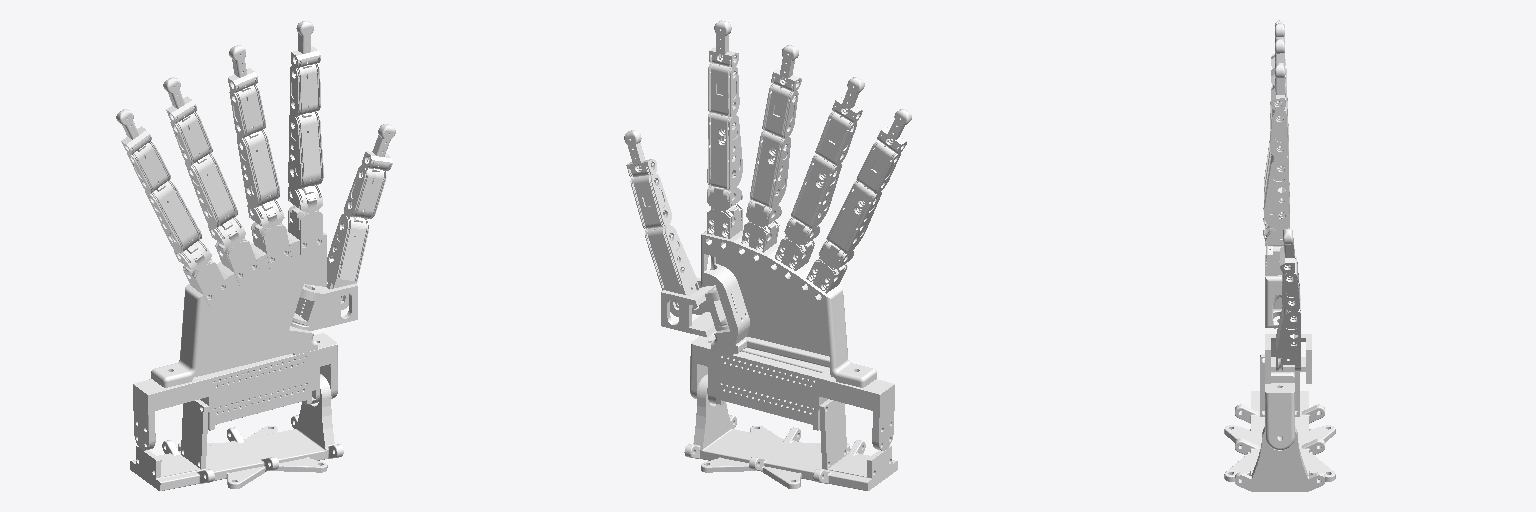
--- What the picture shows (computed from the rendered views, not written in the file) ---
Views: 3 orthographic renders of the robot side by side, from view 1: azimuth 30°, elevation 25°; view 2: azimuth 150°, elevation 25°; view 3: azimuth 270°, elevation 25°.
Robot: converted_robot — 109 links, 108 joints (39 revolute, 69 fixed); root link world; default pose: every joint at zero.
Links seen in each view (by area): view 1: palm, connector_base, wrist, index_pp, thumb_pp, middle_pp, thumb_base, ring_pp, pinky_pp, thumb_mp, index_mp, middle_mp (+15 smaller); view 2: palm, connector_base, wrist, thumb_pp, index_pp, thumb_base, middle_pp, ring_pp, pinky_pp, thumb_mp, index_mp, middle_mp (+15 smaller); view 3: connector_base, wrist, index_pp, thumb_pp, palm, thumb_base, index_mp, thumb_mp, index_dp, thumb_dp.
Link boxes in pixels (x1=…): palm: x1=151, y1=229, x2=326, y2=387; connector_base: x1=130, y1=374, x2=343, y2=490; wrist: x1=133, y1=333, x2=337, y2=450; index_pp: x1=288, y1=111, x2=323, y2=189; thumb_pp: x1=326, y1=214, x2=368, y2=309; middle_pp: x1=237, y1=129, x2=279, y2=207; thumb_base: x1=291, y1=283, x2=357, y2=330; ring_pp: x1=185, y1=153, x2=237, y2=228; pinky_pp: x1=145, y1=179, x2=201, y2=253; thumb_mp: x1=344, y1=165, x2=386, y2=218; index_mp: x1=290, y1=63, x2=320, y2=116; middle_mp: x1=229, y1=84, x2=265, y2=138; palm: x1=701, y1=230, x2=876, y2=387; connector_base: x1=684, y1=374, x2=897, y2=490; wrist: x1=690, y1=335, x2=894, y2=450; thumb_pp: x1=645, y1=225, x2=699, y2=316; index_pp: x1=707, y1=112, x2=742, y2=190; thumb_base: x1=661, y1=277, x2=728, y2=337; middle_pp: x1=750, y1=130, x2=790, y2=208; ring_pp: x1=791, y1=153, x2=841, y2=229; pinky_pp: x1=826, y1=180, x2=881, y2=253; thumb_mp: x1=630, y1=173, x2=671, y2=228; index_mp: x1=708, y1=63, x2=739, y2=117; middle_mp: x1=762, y1=83, x2=798, y2=138; connector_base: x1=1224, y1=354, x2=1335, y2=491; wrist: x1=1265, y1=383, x2=1294, y2=449; index_pp: x1=1264, y1=151, x2=1289, y2=229; thumb_pp: x1=1276, y1=295, x2=1300, y2=370; palm: x1=1265, y1=275, x2=1294, y2=382; thumb_base: x1=1265, y1=328, x2=1311, y2=383; index_mp: x1=1270, y1=103, x2=1287, y2=158; thumb_mp: x1=1282, y1=256, x2=1299, y2=310; index_dp: x1=1271, y1=63, x2=1285, y2=111; thumb_dp: x1=1280, y1=229, x2=1294, y2=273.
Size in the robot's own frame: 0.1614 by 0.0565 by 0.2362 metres.
Meshes: 27 distinct files referenced, 27 mesh visuals loaded (27 binary STL).

robot.urdf — converted_robot:
<?xml version="1.0" ?>
<robot name="converted_robot">
   <link name="world">
      <inertial>
         <origin xyz="0.0 0.0 0.0" rpy="0.0 0.0 0.0"/>
         <mass value="0.0"/>
         <inertia ixx="0.0" iyy="0.0" izz="0.0" ixy="0" ixz="0" iyz="0"/>
      </inertial>
   </link>
   <link name="wrist">
      <inertial>
         <origin xyz="0.006398304079219358 2.5601891628451577e-05 0.010751708112468374" rpy="1.5592440798138425 -0.004602196226064947 1.5700834195723419"/>
         <mass value="0.08354295839941446"/>
         <inertia ixx="8.100770050394494e-05" iyy="7.735567955308567e-05" izz="5.790938091619951e-06" ixy="0" ixz="0" iyz="0"/>
      </inertial>
      <visual name="wrist">
         <origin xyz="0.006398304079219358 2.5601891628451577e-05 0.010751708112468374" rpy="1.5592440798138423 -0.004602196226064947 1.570083419572342"/>
         <geometry>
            <mesh filename="package://viz/models/titans_hand/urdf/converted_mesh/converted_wrist.stl"/>
         </geometry>
         <material name="white"/>
      </visual>
   </link>
   <link name="world2wrist_fixed_jointbody">
      <inertial>
         <origin xyz="0.0 0.0 0.0" rpy="0.0 0.0 0.0"/>
         <mass value="0.001"/>
         <inertia ixx="1e-09" iyy="1e-09" izz="1e-09" ixy="0" ixz="0" iyz="0"/>
      </inertial>
   </link>
   <joint type="fixed" name="world2wrist_fixed">
      <parent link="world"/>
      <child link="world2wrist_fixed_jointbody"/>
      <origin xyz="0.0 0.0 0.03" rpy="0.0 0.0 0.0"/>
   </joint>
   <joint type="fixed" name="world2wrist_fixed_offset">
      <parent link="world2wrist_fixed_jointbody"/>
      <child link="wrist"/>
      <origin xyz="-0.0 -0.0 -0.0" rpy="0.0 0.0 0.0"/>
   </joint>
   <link name="connector_base">
      <inertial>
         <origin xyz="0.005853447472027522 8.875956500885724e-08 0.01065122051551691" rpy="3.141592653589793 -1.5467576642344818 0.0"/>
         <mass value="0.07977435345788764"/>
         <inertia ixx="7.21448104416082e-05" iyy="7.164411977791013e-05" izz="1.2264239349716238e-05" ixy="0" ixz="0" iyz="0"/>
      </inertial>
      <visual name="connector_base">
         <origin xyz="0.005853447472027522 8.875956500885724e-08 0.01065122051551691" rpy="3.141592653589793 -1.5467576642344818 0.0"/>
         <geometry>
            <mesh filename="package://viz/models/titans_hand/urdf/converted_mesh/converted_connector_base.stl"/>
         </geometry>
         <material name="white"/>
      </visual>
   </link>
   <link name="revolute_base_hand_jointbody">
      <inertial>
         <origin xyz="0.0 0.0 0.0" rpy="0.0 0.0 0.0"/>
         <mass value="0.001"/>
         <inertia ixx="1e-09" iyy="1e-09" izz="1e-09" ixy="0" ixz="0" iyz="0"/>
      </inertial>
   </link>
   <joint type="revolute" name="revolute_base_hand">
      <parent link="wrist"/>
      <child link="revolute_base_hand_jointbody"/>
      <origin xyz="0.0 0.0 0.0" rpy="0.0 0.0 0.0"/>
      <axis xyz="1.0 0.0 0.0"/>
      <limit lower="-1.5707" upper="1.5707" effort="100" velocity="100"/>
   </joint>
   <joint type="fixed" name="revolute_base_hand_offset">
      <parent link="revolute_base_hand_jointbody"/>
      <child link="connector_base"/>
      <origin xyz="-0.0 -0.0 -0.03" rpy="0.0 0.0 0.0"/>
   </joint>
   <link name="palm">
      <inertial>
         <origin xyz="0.010094656341180435 -0.000553803013384598 0.03105483028308372" rpy="1.1186074852383143 0.04430379895530989 1.5628041845350036"/>
         <mass value="0.0780873173122749"/>
         <inertia ixx="6.0901843645658024e-05" iyy="4.614673284183627e-05" izz="1.6826391963182344e-05" ixy="0" ixz="0" iyz="0"/>
      </inertial>
      <visual name="palm">
         <origin xyz="0.010094656341180435 -0.000553803013384598 0.03105483028308372" rpy="1.1186074852383143 0.04430379895530989 1.5628041845350036"/>
         <geometry>
            <mesh filename="package://viz/models/titans_hand/urdf/converted_mesh/converted_palm.stl"/>
         </geometry>
         <material name="white"/>
      </visual>
   </link>
   <link name="wrist2palm_fixed_jointbody">
      <inertial>
         <origin xyz="0.0 0.0 0.0" rpy="0.0 0.0 0.0"/>
         <mass value="0.001"/>
         <inertia ixx="1e-09" iyy="1e-09" izz="1e-09" ixy="0" ixz="0" iyz="0"/>
      </inertial>
   </link>
   <joint type="fixed" name="wrist2palm_fixed">
      <parent link="wrist"/>
      <child link="wrist2palm_fixed_jointbody"/>
      <origin xyz="0.0 0.0 0.025" rpy="0.0 0.0 0.0"/>
   </joint>
   <joint type="fixed" name="wrist2palm_fixed_offset">
      <parent link="wrist2palm_fixed_jointbody"/>
      <child link="palm"/>
      <origin xyz="-0.0 -0.0 -0.0" rpy="0.0 0.0 0.0"/>
   </joint>
   <link name="thumb_base">
      <inertial>
         <origin xyz="0.011215182830463539 0.0029841183673705515 0.0016463816005658494" rpy="0.7654982077617296 -1.0771840751614328 2.8158047209123054"/>
         <mass value="0.01192734960073518"/>
         <inertia ixx="1.331480796603526e-06" iyy="1.1873079694313647e-06" izz="8.100218433718486e-07" ixy="0" ixz="0" iyz="0"/>
      </inertial>
      <visual name="thumb_hinge">
         <origin xyz="0.011215182830463539 0.0029841183673705515 0.0016463816005658494" rpy="0.7654982077617296 -1.0771840751614326 2.8158047209123054"/>
         <geometry>
            <mesh filename="package://viz/models/titans_hand/urdf/converted_mesh/converted_thumb_hinge.stl"/>
         </geometry>
         <material name="white"/>
      </visual>
   </link>
   <link name="thumb_hinge_jointbody">
      <inertial>
         <origin xyz="0.0 0.0 0.0" rpy="0.0 0.0 0.0"/>
         <mass value="0.001"/>
         <inertia ixx="1e-09" iyy="1e-09" izz="1e-09" ixy="0" ixz="0" iyz="0"/>
      </inertial>
   </link>
   <joint type="revolute" name="thumb_hinge">
      <parent link="palm"/>
      <child link="thumb_hinge_jointbody"/>
      <origin xyz="0.0393 0.0 0.023115" rpy="0.0 0.3490658500000001 0.0"/>
      <axis xyz="0.0 0.0 1.0"/>
      <limit lower="-1.75" upper="0.1" effort="100" velocity="100"/>
   </joint>
   <joint type="fixed" name="thumb_hinge_offset">
      <parent link="thumb_hinge_jointbody"/>
      <child link="thumb_base"/>
      <origin xyz="-0.0 -0.0 -0.0" rpy="0.0 0.0 0.0"/>
   </joint>
   <link name="thumb_pp">
      <inertial>
         <origin xyz="6.2787683180604015e-06 0.005125346570550757 0.016264992915475812" rpy="-0.0010123569356892403 -0.07264449111880178 -1.5672469521816081"/>
         <mass value="0.008517951004271104"/>
         <inertia ixx="1.3072129655499252e-06" iyy="1.2915714498132682e-06" izz="1.9551824716339084e-07" ixy="0" ixz="0" iyz="0"/>
      </inertial>
      <visual name="thumb_pp">
         <origin xyz="6.2787683180604015e-06 0.005125346570550757 0.016264992915475812" rpy="-0.0010123569356892403 -0.07264449111880178 -1.5672469521816081"/>
         <geometry>
            <mesh filename="package://viz/models/titans_hand/urdf/converted_mesh/converted_thumb_pp.stl"/>
         </geometry>
         <material name="white"/>
      </visual>
   </link>
   <link name="thumb_base2pp_jointbody">
      <inertial>
         <origin xyz="0.0 0.0 0.0" rpy="0.0 0.0 0.0"/>
         <mass value="0.001"/>
         <inertia ixx="1e-09" iyy="1e-09" izz="1e-09" ixy="0" ixz="0" iyz="0"/>
      </inertial>
   </link>
   <joint type="revolute" name="thumb_base2pp">
      <parent link="thumb_base"/>
      <child link="thumb_base2pp_jointbody"/>
      <origin xyz="0.02053 0.0 0.007747733972" rpy="0.0 0.0 0.0"/>
      <axis xyz="0.0 1.0 0.0"/>
      <limit lower="-0.2" upper="1.35" effort="100" velocity="100"/>
   </joint>
   <joint type="fixed" name="thumb_base2pp_offset">
      <parent link="thumb_base2pp_jointbody"/>
      <child link="thumb_pp"/>
      <origin xyz="-0.0 -0.0 -0.0" rpy="0.0 0.0 0.0"/>
   </joint>
   <link name="thumb_mp_virt">
      <inertial>
         <origin xyz="0.0 0.0 0.0" rpy="0.0 0.0 0.0"/>
         <mass value="0.001"/>
         <inertia ixx="4e-10" iyy="4e-10" izz="3e-10" ixy="0" ixz="0" iyz="0"/>
      </inertial>
   </link>
   <link name="thumb_pp2mp_virt_jointbody">
      <inertial>
         <origin xyz="0.0 0.0 0.0" rpy="0.0 0.0 0.0"/>
         <mass value="0.001"/>
         <inertia ixx="1e-09" iyy="1e-09" izz="1e-09" ixy="0" ixz="0" iyz="0"/>
      </inertial>
   </link>
   <joint type="revolute" name="thumb_pp2mp_virt">
      <parent link="thumb_pp"/>
      <child link="thumb_pp2mp_virt_jointbody"/>
      <origin xyz="0.0 0.0079 0.03471" rpy="0.0 0.0 0.0"/>
      <axis xyz="1.0 0.0 0.0"/>
      <limit lower="-0.131" upper="0.96" effort="100" velocity="100"/>
   </joint>
   <joint type="fixed" name="thumb_pp2mp_virt_offset">
      <parent link="thumb_pp2mp_virt_jointbody"/>
      <child link="thumb_mp_virt"/>
      <origin xyz="-0.0 -0.0 -0.0" rpy="0.0 0.0 0.0"/>
   </joint>
   <link name="thumb_mp">
      <inertial>
         <origin xyz="-7.55086448478437e-07 -0.001512541664618965 0.007480601507547438" rpy="0.0034460599232096767 0.040554727472796204 -1.5647320172412593"/>
         <mass value="0.0036257578156079634"/>
         <inertia ixx="2.3818490558554055e-07" iyy="2.0716154410734043e-07" izz="6.832850890110207e-08" ixy="0" ixz="0" iyz="0"/>
      </inertial>
      <visual name="thumb_mp">
         <origin xyz="-7.55086448478437e-07 -0.001512541664618965 0.007480601507547438" rpy="0.0034460599232096767 0.040554727472796204 -1.5647320172412593"/>
         <geometry>
            <mesh filename="package://viz/models/titans_hand/urdf/converted_mesh/converted_thumb_mp.stl"/>
         </geometry>
         <material name="white"/>
      </visual>
   </link>
   <link name="thumb_pp2mp_jointbody">
      <inertial>
         <origin xyz="0.0 0.0 0.0" rpy="0.0 0.0 0.0"/>
         <mass value="0.001"/>
         <inertia ixx="1e-09" iyy="1e-09" izz="1e-09" ixy="0" ixz="0" iyz="0"/>
      </inertial>
   </link>
   <joint type="revolute" name="thumb_pp2mp">
      <parent link="thumb_mp_virt"/>
      <child link="thumb_pp2mp_jointbody"/>
      <origin xyz="0.0 -0.00094 0.01115" rpy="0.0 0.0 0.0"/>
      <axis xyz="1.0 0.0 0.0"/>
      <limit lower="-0.131" upper="0.96" effort="100" velocity="100"/>
   </joint>
   <joint type="fixed" name="thumb_pp2mp_offset">
      <parent link="thumb_pp2mp_jointbody"/>
      <child link="thumb_mp"/>
      <origin xyz="-0.0 -0.0 -0.0" rpy="0.0 0.0 0.0"/>
   </joint>
   <link name="thumb_dp_virt">
      <inertial>
         <origin xyz="0.0 0.0 -0.1" rpy="0.0 0.0 0.0"/>
         <mass value="0.001"/>
         <inertia ixx="4e-10" iyy="4e-10" izz="3e-10" ixy="0" ixz="0" iyz="0"/>
      </inertial>
   </link>
   <link name="thumb_mp2dp_virt_jointbody">
      <inertial>
         <origin xyz="0.0 0.0 0.0" rpy="0.0 0.0 0.0"/>
         <mass value="0.001"/>
         <inertia ixx="1e-09" iyy="1e-09" izz="1e-09" ixy="0" ixz="0" iyz="0"/>
      </inertial>
   </link>
   <joint type="revolute" name="thumb_mp2dp_virt">
      <parent link="thumb_mp"/>
      <child link="thumb_mp2dp_virt_jointbody"/>
      <origin xyz="0.0 -0.0011 0.01693" rpy="0.0 0.0 0.0"/>
      <axis xyz="1.0 0.0 0.0"/>
      <limit lower="-0.093" upper="0.682" effort="100" velocity="100"/>
   </joint>
   <joint type="fixed" name="thumb_mp2dp_virt_offset">
      <parent link="thumb_mp2dp_virt_jointbody"/>
      <child link="thumb_dp_virt"/>
      <origin xyz="-0.0 -0.0 -0.0" rpy="0.0 0.0 0.0"/>
   </joint>
   <link name="thumb_dp">
      <inertial>
         <origin xyz="3.630100010740267e-06 -0.0003437698391527567 0.00437159682784985" rpy="-0.0005379593086076717 -0.00143310992923662 -1.5708182980816119"/>
         <mass value="0.0014065189510415494"/>
         <inertia ixx="7.157650835027881e-08" iyy="6.265685831321033e-08" izz="1.6891661726787585e-08" ixy="0" ixz="0" iyz="0"/>
      </inertial>
      <visual name="thumb_dp">
         <origin xyz="3.630100010740267e-06 -0.0003437698391527567 0.00437159682784985" rpy="-0.0005379593086080048 -0.00143310992923662 -1.5708182980816119"/>
         <geometry>
            <mesh filename="package://viz/models/titans_hand/urdf/converted_mesh/converted_thumb_dp.stl"/>
         </geometry>
         <material name="white"/>
      </visual>
   </link>
   <link name="thumb_mp2dp_jointbody">
      <inertial>
         <origin xyz="0.0 0.0 0.0" rpy="0.0 0.0 0.0"/>
         <mass value="0.001"/>
         <inertia ixx="1e-09" iyy="1e-09" izz="1e-09" ixy="0" ixz="0" iyz="0"/>
      </inertial>
   </link>
   <joint type="revolute" name="thumb_mp2dp">
      <parent link="thumb_dp_virt"/>
      <child link="thumb_mp2dp_jointbody"/>
      <origin xyz="0.0 -0.00121 0.00845" rpy="0.0 0.0 0.0"/>
      <axis xyz="1.0 0.0 0.0"/>
      <limit lower="-0.093" upper="0.682" effort="100" velocity="100"/>
   </joint>
   <joint type="fixed" name="thumb_mp2dp_offset">
      <parent link="thumb_mp2dp_jointbody"/>
      <child link="thumb_dp"/>
      <origin xyz="-0.0 -0.0 -0.0" rpy="0.0 0.0 0.0"/>
   </joint>
   <link name="thumb_fingertip">
      <inertial>
         <origin xyz="0.0 0.0 0.01465" rpy="0.0 0.0 0.0"/>
         <mass value="0.0"/>
         <inertia ixx="0.0" iyy="0.0" izz="0.0" ixy="0" ixz="0" iyz="0"/>
      </inertial>
   </link>
   <link name="thumb_dp2thumb_fingertip_fixed_jointbody">
      <inertial>
         <origin xyz="0.0 0.0 0.0" rpy="0.0 0.0 0.0"/>
         <mass value="0.001"/>
         <inertia ixx="1e-09" iyy="1e-09" izz="1e-09" ixy="0" ixz="0" iyz="0"/>
      </inertial>
   </link>
   <joint type="fixed" name="thumb_dp2thumb_fingertip_fixed">
      <parent link="thumb_dp"/>
      <child link="thumb_dp2thumb_fingertip_fixed_jointbody"/>
      <origin xyz="0.0 0.0 0.01465" rpy="0.0 0.0 0.0"/>
   </joint>
   <joint type="fixed" name="thumb_dp2thumb_fingertip_fixed_offset">
      <parent link="thumb_dp2thumb_fingertip_fixed_jointbody"/>
      <child link="thumb_fingertip"/>
      <origin xyz="-0.0 -0.0 -0.0" rpy="0.0 0.0 0.0"/>
   </joint>
   <link name="index_base">
      <inertial>
         <origin xyz="-1.3760015381432599e-06 0.0001725668069039066 0.004475784071478828" rpy="-0.001820563394911212 0.2840263082023218 1.5629472627759466"/>
         <mass value="0.00362069274308756"/>
         <inertia ixx="1.660759019712417e-07" iyy="1.58396401779484e-07" izz="8.57537012752121e-08" ixy="0" ixz="0" iyz="0"/>
      </inertial>
      <visual name="index_base">
         <origin xyz="-1.3760015381432599e-06 0.0001725668069039066 0.004475784071478828" rpy="-0.001820563394911212 0.2840263082023218 1.5629472627759466"/>
         <geometry>
            <mesh filename="package://viz/models/titans_hand/urdf/converted_mesh/converted_index_base.stl"/>
         </geometry>
         <material name="white"/>
      </visual>
   </link>
   <link name="palm2index_base_fixed_jointbody">
      <inertial>
         <origin xyz="0.0 0.0 0.0" rpy="0.0 0.0 0.0"/>
         <mass value="0.001"/>
         <inertia ixx="1e-09" iyy="1e-09" izz="1e-09" ixy="0" ixz="0" iyz="0"/>
      </inertial>
   </link>
   <joint type="fixed" name="palm2index_base_fixed">
      <parent link="palm"/>
      <child link="palm2index_base_fixed_jointbody"/>
      <origin xyz="0.04096 -0.002 0.063" rpy="0.0 0.0 0.0"/>
   </joint>
   <joint type="fixed" name="palm2index_base_fixed_offset">
      <parent link="palm2index_base_fixed_jointbody"/>
      <child link="index_base"/>
      <origin xyz="-0.0 -0.0 -0.0" rpy="0.0 0.0 0.0"/>
   </joint>
   <link name="index_um_virt">
      <inertial>
         <origin xyz="0.0 0.0 0.0" rpy="0.0 0.0 0.0"/>
         <mass value="0.001"/>
         <inertia ixx="4e-10" iyy="4e-10" izz="3e-10" ixy="0" ixz="0" iyz="0"/>
      </inertial>
   </link>
   <link name="index_abd_virt_jointbody">
      <inertial>
         <origin xyz="0.0 0.0 0.0" rpy="0.0 0.0 0.0"/>
         <mass value="0.001"/>
         <inertia ixx="1e-09" iyy="1e-09" izz="1e-09" ixy="0" ixz="0" iyz="0"/>
      </inertial>
   </link>
   <joint type="revolute" name="index_abd_virt">
      <parent link="index_base"/>
      <child link="index_abd_virt_jointbody"/>
      <origin xyz="0.0 0.0 0.00527505" rpy="0.0 0.0 0.0"/>
      <axis xyz="0.0 1.0 0.0"/>
      <limit lower="-0.264" upper="0.264" effort="100" velocity="100"/>
   </joint>
   <joint type="fixed" name="index_abd_virt_offset">
      <parent link="index_abd_virt_jointbody"/>
      <child link="index_um_virt"/>
      <origin xyz="-0.0 -0.0 -0.0" rpy="0.0 0.0 0.0"/>
   </joint>
   <link name="index_um">
      <inertial>
         <origin xyz="1.7370519164770844e-05 0.0012715146657108968 -0.0031260415189963524" rpy="3.120877986607322 -1.1804296781579997 -1.5514785003273175"/>
         <mass value="0.0020507778801623494"/>
         <inertia ixx="5.3021061398745245e-08" iyy="4.456771195857276e-08" izz="4.1862251466191607e-08" ixy="0" ixz="0" iyz="0"/>
      </inertial>
      <visual name="index_um">
         <origin xyz="1.7370519164770844e-05 0.0012715146657108968 -0.0031260415189963524" rpy="3.120877986607322 -1.1804296781579997 -1.5514785003273168"/>
         <geometry>
            <mesh filename="package://viz/models/titans_hand/urdf/converted_mesh/converted_index_um.stl"/>
         </geometry>
         <material name="white"/>
      </visual>
   </link>
   <link name="index_abd_jointbody">
      <inertial>
         <origin xyz="0.0 0.0 0.0" rpy="0.0 0.0 0.0"/>
         <mass value="0.001"/>
         <inertia ixx="1e-09" iyy="1e-09" izz="1e-09" ixy="0" ixz="0" iyz="0"/>
      </inertial>
   </link>
   <joint type="revolute" name="index_abd">
      <parent link="index_um_virt"/>
      <child link="index_abd_jointbody"/>
      <origin xyz="0.0 0.0 0.01789991" rpy="0.0 0.0 0.0"/>
      <axis xyz="0.0 1.0 0.0"/>
      <limit lower="-0.264" upper="0.264" effort="100" velocity="100"/>
   </joint>
   <joint type="fixed" name="index_abd_offset">
      <parent link="index_abd_jointbody"/>
      <child link="index_um"/>
      <origin xyz="-0.0 -0.0 -0.0" rpy="0.0 0.0 0.0"/>
   </joint>
   <link name="index_pp_virt">
      <inertial>
         <origin xyz="0.0 0.0 0.0" rpy="0.0 0.0 0.0"/>
         <mass value="0.001"/>
         <inertia ixx="4e-10" iyy="4e-10" izz="3e-10" ixy="0" ixz="0" iyz="0"/>
      </inertial>
   </link>
   <link name="root2index_pp_virt_jointbody">
      <inertial>
         <origin xyz="0.0 0.0 0.0" rpy="0.0 0.0 0.0"/>
         <mass value="0.001"/>
         <inertia ixx="1e-09" iyy="1e-09" izz="1e-09" ixy="0" ixz="0" iyz="0"/>
      </inertial>
   </link>
   <joint type="revolute" name="root2index_pp_virt">
      <parent link="index_um"/>
      <child link="root2index_pp_virt_jointbody"/>
      <origin xyz="0.0 0.0033 -0.00625608" rpy="0.0 0.0 0.0"/>
      <axis xyz="1.0 0.0 0.0"/>
      <limit lower="-0.157" upper="0.829" effort="100" velocity="100"/>
   </joint>
   <joint type="fixed" name="root2index_pp_virt_offset">
      <parent link="root2index_pp_virt_jointbody"/>
      <child link="index_pp_virt"/>
      <origin xyz="-0.0 -0.0 -0.0" rpy="0.0 0.0 0.0"/>
   </joint>
   <link name="index_pp">
      <inertial>
         <origin xyz="0.00011637335936397564 -0.001818208065259735 0.010822209549121282" rpy="0.0018869935921097536 0.038976549934939486 1.5584299043450622"/>
         <mass value="0.007546046440107924"/>
         <inertia ixx="9.56353434554292e-07" iyy="9.274116917842254e-07" izz="1.7176054342320975e-07" ixy="0" ixz="0" iyz="0"/>
      </inertial>
      <visual name="index_pp">
         <origin xyz="0.00011637335936397564 -0.001818208065259735 0.010822209549121282" rpy="0.0018869935921097536 0.038976549934939486 1.5584299043450622"/>
         <geometry>
            <mesh filename="package://viz/models/titans_hand/urdf/converted_mesh/converted_index_pp.stl"/>
         </geometry>
         <material name="white"/>
      </visual>
   </link>
   <link name="root2index_pp_jointbody">
      <inertial>
         <origin xyz="0.0 0.0 0.0" rpy="0.0 0.0 0.0"/>
         <mass value="0.001"/>
         <inertia ixx="1e-09" iyy="1e-09" izz="1e-09" ixy="0" ixz="0" iyz="0"/>
      </inertial>
   </link>
   <joint type="revolute" name="root2index_pp">
      <parent link="index_pp_virt"/>
      <child link="root2index_pp_jointbody"/>
      <origin xyz="0.0 -0.00015683 0.01722519" rpy="0.0 0.0 0.0"/>
      <axis xyz="1.0 0.0 0.0"/>
      <limit lower="-0.157" upper="0.829" effort="100" velocity="100"/>
   </joint>
   <joint type="fixed" name="root2index_pp_offset">
      <parent link="root2index_pp_jointbody"/>
      <child link="index_pp"/>
      <origin xyz="-0.0 -0.0 -0.0" rpy="0.0 0.0 0.0"/>
   </joint>
   <link name="index_pp_sens">
      <inertial>
         <origin xyz="0.0 0.0 0.0" rpy="0.0 0.0 0.0"/>
         <mass value="0.0"/>
         <inertia ixx="0.0" iyy="0.0" izz="0.0" ixy="0" ixz="0" iyz="0"/>
      </inertial>
   </link>
   <link name="index_pp2index_pp_sens_fixed_jointbody">
      <inertial>
         <origin xyz="0.0 0.0 0.0" rpy="0.0 0.0 0.0"/>
         <mass value="0.001"/>
         <inertia ixx="1e-09" iyy="1e-09" izz="1e-09" ixy="0" ixz="0" iyz="0"/>
      </inertial>
   </link>
   <joint type="fixed" name="index_pp2index_pp_sens_fixed">
      <parent link="index_pp"/>
      <child link="index_pp2index_pp_sens_fixed_jointbody"/>
      <origin xyz="0.0 0.0 0.0" rpy="0.0 0.0 0.0"/>
   </joint>
   <joint type="fixed" name="index_pp2index_pp_sens_fixed_offset">
      <parent link="index_pp2index_pp_sens_fixed_jointbody"/>
      <child link="index_pp_sens"/>
      <origin xyz="-0.0 -0.0 -0.0" rpy="0.0 0.0 0.0"/>
   </joint>
   <link name="index_mp_virt">
      <inertial>
         <origin xyz="0.0 0.0 0.0" rpy="0.0 0.0 0.0"/>
         <mass value="0.001"/>
         <inertia ixx="4e-10" iyy="4e-10" izz="3e-10" ixy="0" ixz="0" iyz="0"/>
      </inertial>
   </link>
   <link name="index_pp2mp_virt_jointbody">
      <inertial>
         <origin xyz="0.0 0.0 0.0" rpy="0.0 0.0 0.0"/>
         <mass value="0.001"/>
         <inertia ixx="1e-09" iyy="1e-09" izz="1e-09" ixy="0" ixz="0" iyz="0"/>
      </inertial>
   </link>
   <joint type="revolute" name="index_pp2mp_virt">
      <parent link="index_pp"/>
      <child link="index_pp2mp_virt_jointbody"/>
      <origin xyz="0.0 0.00057641 0.02611802" rpy="0.0 0.0 0.0"/>
      <axis xyz="1.0 0.0 0.0"/>
      <limit lower="-0.131" upper="0.96" effort="100" velocity="100"/>
   </joint>
   <joint type="fixed" name="index_pp2mp_virt_offset">
      <parent link="index_pp2mp_virt_jointbody"/>
      <child link="index_mp_virt"/>
      <origin xyz="-0.0 -0.0 -0.0" rpy="0.0 0.0 0.0"/>
   </joint>
   <link name="index_mp">
      <inertial>
         <origin xyz="0.00029668965848413434 -0.0011315360700857534 0.007590131503944136" rpy="0.0056787978904592196 0.009123149673579745 1.5738823026622906"/>
         <mass value="0.0036096163027472743"/>
         <inertia ixx="2.3670857595223327e-07" iyy="2.0588776340491657e-07" izz="6.81524873648359e-08" ixy="0" ixz="0" iyz="0"/>
      </inertial>
      <visual name="index_mp">
         <origin xyz="0.00029668965848413434 -0.0011315360700857534 0.007590131503944136" rpy="0.0056787978904592196 0.009123149673579745 1.573882302662291"/>
         <geometry>
            <mesh filename="package://viz/models/titans_hand/urdf/converted_mesh/converted_index_mp.stl"/>
         </geometry>
         <material name="white"/>
      </visual>
   </link>
   <link name="index_pp2mp_jointbody">
      <inertial>
         <origin xyz="0.0 0.0 0.0" rpy="0.0 0.0 0.0"/>
         <mass value="0.001"/>
         <inertia ixx="1e-09" iyy="1e-09" izz="1e-09" ixy="0" ixz="0" iyz="0"/>
      </inertial>
   </link>
   <joint type="revolute" name="index_pp2mp">
      <parent link="index_mp_virt"/>
      <child link="index_pp2mp_jointbody"/>
      <origin xyz="0.0 -0.00080968 0.01104305" rpy="0.0 0.0 0.0"/>
      <axis xyz="1.0 0.0 0.0"/>
      <limit lower="-0.131" upper="0.96" effort="100" velocity="100"/>
   </joint>
   <joint type="fixed" name="index_pp2mp_offset">
      <parent link="index_pp2mp_jointbody"/>
      <child link="index_mp"/>
      <origin xyz="-0.0 -0.0 -0.0" rpy="0.0 0.0 0.0"/>
   </joint>
   <link name="index_dp_virt">
      <inertial>
         <origin xyz="0.0 0.0 -0.1" rpy="0.0 0.0 0.0"/>
         <mass value="0.001"/>
         <inertia ixx="4e-10" iyy="4e-10" izz="3e-10" ixy="0" ixz="0" iyz="0"/>
      </inertial>
   </link>
   <link name="index_mp2dp_virt_jointbody">
      <inertial>
         <origin xyz="0.0 0.0 0.0" rpy="0.0 0.0 0.0"/>
         <mass value="0.001"/>
         <inertia ixx="1e-09" iyy="1e-09" izz="1e-09" ixy="0" ixz="0" iyz="0"/>
      </inertial>
   </link>
   <joint type="revolute" name="index_mp2dp_virt">
      <parent link="index_mp"/>
      <child link="index_mp2dp_virt_jointbody"/>
      <origin xyz="0.0 -0.00027599 0.01697596" rpy="0.0 0.0 0.0"/>
      <axis xyz="1.0 0.0 0.0"/>
      <limit lower="-0.093" upper="0.682" effort="100" velocity="100"/>
   </joint>
   <joint type="fixed" name="index_mp2dp_virt_offset">
      <parent link="index_mp2dp_virt_jointbody"/>
      <child link="index_dp_virt"/>
      <origin xyz="-0.0 -0.0 -0.0" rpy="0.0 0.0 0.0"/>
   </joint>
   <link name="index_dp">
      <inertial>
         <origin xyz="0.0004080281600351707 -0.0001609196067209539 0.004366833298723782" rpy="0.005320230753060984 0.04639366291748903 1.5713315351794575"/>
         <mass value="0.0014065189005047724"/>
         <inertia ixx="7.15765063531471e-08" iyy="6.265685623199896e-08" izz="1.6891661140100088e-08" ixy="0" ixz="0" iyz="0"/>
      </inertial>
      <visual name="index_dp">
         <origin xyz="0.0004080281600351707 -0.0001609196067209539 0.004366833298723782" rpy="0.005320230753060984 0.04639366291748925 1.571331535179458"/>
         <geometry>
            <mesh filename="package://viz/models/titans_hand/urdf/converted_mesh/converted_index_dp.stl"/>
         </geometry>
         <material name="white"/>
      </visual>
   </link>
   <link name="index_mp2dp_jointbody">
      <inertial>
         <origin xyz="0.0 0.0 0.0" rpy="0.0 0.0 0.0"/>
         <mass value="0.001"/>
         <inertia ixx="1e-09" iyy="1e-09" izz="1e-09" ixy="0" ixz="0" iyz="0"/>
      </inertial>
   </link>
   <joint type="revolute" name="index_mp2dp">
      <parent link="index_dp_virt"/>
      <child link="index_mp2dp_jointbody"/>
      <origin xyz="0.0 -0.00083781 0.00827539" rpy="0.0 0.0 0.0"/>
      <axis xyz="1.0 0.0 0.0"/>
      <limit lower="-0.093" upper="0.682" effort="100" velocity="100"/>
   </joint>
   <joint type="fixed" name="index_mp2dp_offset">
      <parent link="index_mp2dp_jointbody"/>
      <child link="index_dp"/>
      <origin xyz="-0.0 -0.0 -0.0" rpy="0.0 0.0 0.0"/>
   </joint>
   <link name="index_fingertip">
      <inertial>
         <origin xyz="0.0 0.0 0.01309" rpy="0.0 0.0 0.0"/>
         <mass value="0.0"/>
         <inertia ixx="0.0" iyy="0.0" izz="0.0" ixy="0" ixz="0" iyz="0"/>
      </inertial>
   </link>
   <link name="index_dp2index_fingertip_fixed_jointbody">
      <inertial>
         <origin xyz="0.0 0.0 0.0" rpy="0.0 0.0 0.0"/>
         <mass value="0.001"/>
         <inertia ixx="1e-09" iyy="1e-09" izz="1e-09" ixy="0" ixz="0" iyz="0"/>
      </inertial>
   </link>
   <joint type="fixed" name="index_dp2index_fingertip_fixed">
      <parent link="index_dp"/>
      <child link="index_dp2index_fingertip_fixed_jointbody"/>
      <origin xyz="0.0 0.0 0.01309" rpy="0.0 0.0 0.0"/>
   </joint>
   <joint type="fixed" name="index_dp2index_fingertip_fixed_offset">
      <parent link="index_dp2index_fingertip_fixed_jointbody"/>
      <child link="index_fingertip"/>
      <origin xyz="-0.0 -0.0 -0.0" rpy="0.0 0.0 0.0"/>
   </joint>
   <link name="middle_base">
      <inertial>
         <origin xyz="-1.3760015381432599e-06 0.0001725668069039066 0.004475784071478828" rpy="-0.001820563394911212 0.2840263082023218 1.5629472627759466"/>
         <mass value="0.00362069274308756"/>
         <inertia ixx="1.660759019712417e-07" iyy="1.58396401779484e-07" izz="8.57537012752121e-08" ixy="0" ixz="0" iyz="0"/>
      </inertial>
      <visual name="middle_base">
         <origin xyz="-1.3760015381432599e-06 0.0001725668069039066 0.004475784071478828" rpy="-0.001820563394911212 0.2840263082023218 1.5629472627759466"/>
         <geometry>
            <mesh filename="package://viz/models/titans_hand/urdf/converted_mesh/converted_middle_base.stl"/>
         </geometry>
         <material name="white"/>
      </visual>
   </link>
   <link name="palm2middle_base_fixed_jointbody">
      <inertial>
         <origin xyz="0.0 0.0 0.0" rpy="0.0 0.0 0.0"/>
         <mass value="0.001"/>
         <inertia ixx="1e-09" iyy="1e-09" izz="1e-09" ixy="0" ixz="0" iyz="0"/>
      </inertial>
   </link>
   <joint type="fixed" name="palm2middle_base_fixed">
      <parent link="palm"/>
      <child link="palm2middle_base_fixed_jointbody"/>
      <origin xyz="0.02163081458 -0.002 0.060168462" rpy="0.0 -0.17453300000000005 0.0"/>
   </joint>
   <joint type="fixed" name="palm2middle_base_fixed_offset">
      <parent link="palm2middle_base_fixed_jointbody"/>
      <child link="middle_base"/>
      <origin xyz="-0.0 -0.0 -0.0" rpy="0.0 0.0 0.0"/>
   </joint>
   <link name="middle_um_virt">
      <inertial>
         <origin xyz="0.0 0.0 0.0" rpy="0.0 0.0 0.0"/>
         <mass value="0.001"/>
         <inertia ixx="4e-10" iyy="4e-10" izz="3e-10" ixy="0" ixz="0" iyz="0"/>
      </inertial>
   </link>
   <link name="middle_abd_virt_jointbody">
      <inertial>
         <origin xyz="0.0 0.0 0.0" rpy="0.0 0.0 0.0"/>
         <mass value="0.001"/>
         <inertia ixx="1e-09" iyy="1e-09" izz="1e-09" ixy="0" ixz="0" iyz="0"/>
      </inertial>
   </link>
   <joint type="revolute" name="middle_abd_virt">
      <parent link="middle_base"/>
      <child link="middle_abd_virt_jointbody"/>
      <origin xyz="0.0 0.0 0.00527505" rpy="0.0 0.0 0.0"/>
      <axis xyz="0.0 1.0 0.0"/>
      <limit lower="-0.264" upper="0.264" effort="100" velocity="100"/>
   </joint>
   <joint type="fixed" name="middle_abd_virt_offset">
      <parent link="middle_abd_virt_jointbody"/>
      <child link="middle_um_virt"/>
      <origin xyz="-0.0 -0.0 -0.0" rpy="0.0 0.0 0.0"/>
   </joint>
   <link name="middle_um">
      <inertial>
         <origin xyz="1.7370519164770844e-05 0.0012715146657108968 -0.0031260415189963524" rpy="3.120877986607322 -1.1804296781579997 -1.5514785003273175"/>
         <mass value="0.0020507778801623494"/>
         <inertia ixx="5.3021061398745245e-08" iyy="4.456771195857276e-08" izz="4.1862251466191607e-08" ixy="0" ixz="0" iyz="0"/>
      </inertial>
      <visual name="middle_um">
         <origin xyz="1.7370519164770844e-05 0.0012715146657108968 -0.0031260415189963524" rpy="3.120877986607322 -1.1804296781579997 -1.5514785003273168"/>
         <geometry>
            <mesh filename="package://viz/models/titans_hand/urdf/converted_mesh/converted_middle_um.stl"/>
         </geometry>
         <material name="white"/>
      </visual>
   </link>
   <link name="middle_abd_jointbody">
      <inertial>
         <origin xyz="0.0 0.0 0.0" rpy="0.0 0.0 0.0"/>
         <mass value="0.001"/>
         <inertia ixx="1e-09" iyy="1e-09" izz="1e-09" ixy="0" ixz="0" iyz="0"/>
      </inertial>
   </link>
   <joint type="revolute" name="middle_abd">
      <parent link="middle_um_virt"/>
      <child link="middle_abd_jointbody"/>
      <origin xyz="0.0 0.0 0.01789991" rpy="0.0 0.0 0.0"/>
      <axis xyz="0.0 1.0 0.0"/>
      <limit lower="-0.264" upper="0.264" effort="100" velocity="100"/>
   </joint>
   <joint type="fixed" name="middle_abd_offset">
      <parent link="middle_abd_jointbody"/>
      <child link="middle_um"/>
      <origin xyz="-0.0 -0.0 -0.0" rpy="0.0 0.0 0.0"/>
   </joint>
   <link name="middle_pp_virt">
      <inertial>
         <origin xyz="0.0 0.0 0.0" rpy="0.0 0.0 0.0"/>
         <mass value="0.001"/>
         <inertia ixx="4e-10" iyy="4e-10" izz="3e-10" ixy="0" ixz="0" iyz="0"/>
      </inertial>
   </link>
   <link name="root2middle_pp_virt_jointbody">
      <inertial>
         <origin xyz="0.0 0.0 0.0" rpy="0.0 0.0 0.0"/>
         <mass value="0.001"/>
         <inertia ixx="1e-09" iyy="1e-09" izz="1e-09" ixy="0" ixz="0" iyz="0"/>
      </inertial>
   </link>
   <joint type="revolute" name="root2middle_pp_virt">
      <parent link="middle_um"/>
      <child link="root2middle_pp_virt_jointbody"/>
      <origin xyz="0.0 0.0033 -0.00625608" rpy="0.0 0.0 0.0"/>
      <axis xyz="1.0 0.0 0.0"/>
      <limit lower="-0.157" upper="0.829" effort="100" velocity="100"/>
   </joint>
   <joint type="fixed" name="root2middle_pp_virt_offset">
      <parent link="root2middle_pp_virt_jointbody"/>
      <child link="middle_pp_virt"/>
      <origin xyz="-0.0 -0.0 -0.0" rpy="0.0 0.0 0.0"/>
   </joint>
   <link name="middle_pp">
      <inertial>
         <origin xyz="0.00011637335936397564 -0.001818208065259735 0.010822209549121282" rpy="0.0018869935921097536 0.038976549934939486 1.5584299043450622"/>
         <mass value="0.007546046440107924"/>
         <inertia ixx="9.56353434554292e-07" iyy="9.274116917842254e-07" izz="1.7176054342320975e-07" ixy="0" ixz="0" iyz="0"/>
      </inertial>
      <visual name="middle_pp">
         <origin xyz="0.00011637335936397564 -0.001818208065259735 0.010822209549121282" rpy="0.0018869935921097536 0.038976549934939486 1.5584299043450622"/>
         <geometry>
            <mesh filename="package://viz/models/titans_hand/urdf/converted_mesh/converted_middle_pp.stl"/>
         </geometry>
         <material name="white"/>
      </visual>
   </link>
   <link name="root2middle_pp_jointbody">
      <inertial>
         <origin xyz="0.0 0.0 0.0" rpy="0.0 0.0 0.0"/>
         <mass value="0.001"/>
         <inertia ixx="1e-09" iyy="1e-09" izz="1e-09" ixy="0" ixz="0" iyz="0"/>
      </inertial>
   </link>
   <joint type="revolute" name="root2middle_pp">
      <parent link="middle_pp_virt"/>
      <child link="root2middle_pp_jointbody"/>
      <origin xyz="0.0 -0.00015683 0.01722519" rpy="0.0 0.0 0.0"/>
      <axis xyz="1.0 0.0 0.0"/>
      <limit lower="-0.157" upper="0.829" effort="100" velocity="100"/>
   </joint>
   <joint type="fixed" name="root2middle_pp_offset">
      <parent link="root2middle_pp_jointbody"/>
      <child link="middle_pp"/>
      <origin xyz="-0.0 -0.0 -0.0" rpy="0.0 0.0 0.0"/>
   </joint>
   <link name="middle_pp_sens">
      <inertial>
         <origin xyz="0.0 0.0 0.0" rpy="0.0 0.0 0.0"/>
         <mass value="0.0"/>
         <inertia ixx="0.0" iyy="0.0" izz="0.0" ixy="0" ixz="0" iyz="0"/>
      </inertial>
   </link>
   <link name="middle_pp2middle_pp_sens_fixed_jointbody">
      <inertial>
         <origin xyz="0.0 0.0 0.0" rpy="0.0 0.0 0.0"/>
         <mass value="0.001"/>
         <inertia ixx="1e-09" iyy="1e-09" izz="1e-09" ixy="0" ixz="0" iyz="0"/>
      </inertial>
   </link>
   <joint type="fixed" name="middle_pp2middle_pp_sens_fixed">
      <parent link="middle_pp"/>
      <child link="middle_pp2middle_pp_sens_fixed_jointbody"/>
      <origin xyz="0.0 0.0 0.0" rpy="0.0 0.0 0.0"/>
   </joint>
   <joint type="fixed" name="middle_pp2middle_pp_sens_fixed_offset">
      <parent link="middle_pp2middle_pp_sens_fixed_jointbody"/>
      <child link="middle_pp_sens"/>
      <origin xyz="-0.0 -0.0 -0.0" rpy="0.0 0.0 0.0"/>
   </joint>
   <link name="middle_mp_virt">
      <inertial>
         <origin xyz="0.0 0.0 0.0" rpy="0.0 0.0 0.0"/>
         <mass value="0.001"/>
         <inertia ixx="4e-10" iyy="4e-10" izz="3e-10" ixy="0" ixz="0" iyz="0"/>
      </inertial>
   </link>
   <link name="middle_pp2mp_virt_jointbody">
      <inertial>
         <origin xyz="0.0 0.0 0.0" rpy="0.0 0.0 0.0"/>
         <mass value="0.001"/>
         <inertia ixx="1e-09" iyy="1e-09" izz="1e-09" ixy="0" ixz="0" iyz="0"/>
      </inertial>
   </link>
   <joint type="revolute" name="middle_pp2mp_virt">
      <parent link="middle_pp"/>
      <child link="middle_pp2mp_virt_jointbody"/>
      <origin xyz="0.0 0.00057641 0.02611802" rpy="0.0 0.0 0.0"/>
      <axis xyz="1.0 0.0 0.0"/>
      <limit lower="-0.131" upper="0.96" effort="100" velocity="100"/>
   </joint>
   <joint type="fixed" name="middle_pp2mp_virt_offset">
      <parent link="middle_pp2mp_virt_jointbody"/>
      <child link="middle_mp_virt"/>
      <origin xyz="-0.0 -0.0 -0.0" rpy="0.0 0.0 0.0"/>
   </joint>
   <link name="middle_mp">
      <inertial>
         <origin xyz="0.00029668965848413434 -0.0011315360700857534 0.007590131503944136" rpy="0.0056787978904592196 0.009123149673579745 1.5738823026622906"/>
         <mass value="0.0036096163027472743"/>
         <inertia ixx="2.3670857595223327e-07" iyy="2.0588776340491657e-07" izz="6.81524873648359e-08" ixy="0" ixz="0" iyz="0"/>
      </inertial>
      <visual name="middle_mp">
         <origin xyz="0.00029668965848413434 -0.0011315360700857534 0.007590131503944136" rpy="0.0056787978904592196 0.009123149673579745 1.573882302662291"/>
         <geometry>
            <mesh filename="package://viz/models/titans_hand/urdf/converted_mesh/converted_middle_mp.stl"/>
         </geometry>
         <material name="white"/>
      </visual>
   </link>
   <link name="middle_pp2mp_jointbody">
      <inertial>
         <origin xyz="0.0 0.0 0.0" rpy="0.0 0.0 0.0"/>
         <mass value="0.001"/>
         <inertia ixx="1e-09" iyy="1e-09" izz="1e-09" ixy="0" ixz="0" iyz="0"/>
      </inertial>
   </link>
   <joint type="revolute" name="middle_pp2mp">
      <parent link="middle_mp_virt"/>
      <child link="middle_pp2mp_jointbody"/>
      <origin xyz="0.0 -0.00080968 0.01104305" rpy="0.0 0.0 0.0"/>
      <axis xyz="1.0 0.0 0.0"/>
      <limit lower="-0.131" upper="0.96" effort="100" velocity="100"/>
   </joint>
   <joint type="fixed" name="middle_pp2mp_offset">
      <parent link="middle_pp2mp_jointbody"/>
      <child link="middle_mp"/>
      <origin xyz="-0.0 -0.0 -0.0" rpy="0.0 0.0 0.0"/>
   </joint>
   <link name="middle_dp_virt">
      <inertial>
         <origin xyz="0.0 0.0 -0.1" rpy="0.0 0.0 0.0"/>
         <mass value="0.001"/>
         <inertia ixx="4e-10" iyy="4e-10" izz="3e-10" ixy="0" ixz="0" iyz="0"/>
      </inertial>
   </link>
   <link name="middle_mp2dp_virt_jointbody">
      <inertial>
         <origin xyz="0.0 0.0 0.0" rpy="0.0 0.0 0.0"/>
         <mass value="0.001"/>
         <inertia ixx="1e-09" iyy="1e-09" izz="1e-09" ixy="0" ixz="0" iyz="0"/>
      </inertial>
   </link>
   <joint type="revolute" name="middle_mp2dp_virt">
      <parent link="middle_mp"/>
      <child link="middle_mp2dp_virt_jointbody"/>
      <origin xyz="0.0 -0.00027599 0.01697596" rpy="0.0 0.0 0.0"/>
      <axis xyz="1.0 0.0 0.0"/>
      <limit lower="-0.093" upper="0.682" effort="100" velocity="100"/>
   </joint>
   <joint type="fixed" name="middle_mp2dp_virt_offset">
      <parent link="middle_mp2dp_virt_jointbody"/>
      <child link="middle_dp_virt"/>
      <origin xyz="-0.0 -0.0 -0.0" rpy="0.0 0.0 0.0"/>
   </joint>
   <link name="middle_dp">
      <inertial>
         <origin xyz="0.0004080281600351707 -0.0001609196067209539 0.004366833298723782" rpy="0.005320230753060984 0.04639366291748903 1.5713315351794575"/>
         <mass value="0.0014065189005047724"/>
         <inertia ixx="7.15765063531471e-08" iyy="6.265685623199896e-08" izz="1.6891661140100088e-08" ixy="0" ixz="0" iyz="0"/>
      </inertial>
      <visual name="middle_dp">
         <origin xyz="0.0004080281600351707 -0.0001609196067209539 0.004366833298723782" rpy="0.005320230753060984 0.04639366291748925 1.571331535179458"/>
         <geometry>
            <mesh filename="package://viz/models/titans_hand/urdf/converted_mesh/converted_middle_dp.stl"/>
         </geometry>
         <material name="white"/>
      </visual>
   </link>
   <link name="middle_mp2dp_jointbody">
      <inertial>
         <origin xyz="0.0 0.0 0.0" rpy="0.0 0.0 0.0"/>
         <mass value="0.001"/>
         <inertia ixx="1e-09" iyy="1e-09" izz="1e-09" ixy="0" ixz="0" iyz="0"/>
      </inertial>
   </link>
   <joint type="revolute" name="middle_mp2dp">
      <parent link="middle_dp_virt"/>
      <child link="middle_mp2dp_jointbody"/>
      <origin xyz="0.0 -0.00083781 0.00827539" rpy="0.0 0.0 0.0"/>
      <axis xyz="1.0 0.0 0.0"/>
      <limit lower="-0.093" upper="0.682" effort="100" velocity="100"/>
   </joint>
   <joint type="fixed" name="middle_mp2dp_offset">
      <parent link="middle_mp2dp_jointbody"/>
      <child link="middle_dp"/>
      <origin xyz="-0.0 -0.0 -0.0" rpy="0.0 0.0 0.0"/>
   </joint>
   <link name="middle_fingertip">
      <inertial>
         <origin xyz="0.0 0.0 0.01309" rpy="0.0 0.0 0.0"/>
         <mass value="0.0"/>
         <inertia ixx="0.0" iyy="0.0" izz="0.0" ixy="0" ixz="0" iyz="0"/>
      </inertial>
   </link>
   <link name="middle_dp2middle_fingertip_fixed_jointbody">
      <inertial>
         <origin xyz="0.0 0.0 0.0" rpy="0.0 0.0 0.0"/>
         <mass value="0.001"/>
         <inertia ixx="1e-09" iyy="1e-09" izz="1e-09" ixy="0" ixz="0" iyz="0"/>
      </inertial>
   </link>
   <joint type="fixed" name="middle_dp2middle_fingertip_fixed">
      <parent link="middle_dp"/>
      <child link="middle_dp2middle_fingertip_fixed_jointbody"/>
      <origin xyz="0.0 0.0 0.01309" rpy="0.0 0.0 0.0"/>
   </joint>
   <joint type="fixed" name="middle_dp2middle_fingertip_fixed_offset">
      <parent link="middle_dp2middle_fingertip_fixed_jointbody"/>
      <child link="middle_fingertip"/>
      <origin xyz="-0.0 -0.0 -0.0" rpy="0.0 0.0 0.0"/>
   </joint>
   <link name="ring_base">
      <inertial>
         <origin xyz="-1.3760015381432599e-06 0.0001725668069039066 0.004475784071478828" rpy="-0.001820563394911212 0.2840263082023218 1.5629472627759466"/>
         <mass value="0.00362069274308756"/>
         <inertia ixx="1.660759019712417e-07" iyy="1.58396401779484e-07" izz="8.57537012752121e-08" ixy="0" ixz="0" iyz="0"/>
      </inertial>
      <visual name="ring_base">
         <origin xyz="-1.3760015381432599e-06 0.0001725668069039066 0.004475784071478828" rpy="-0.001820563394911212 0.2840263082023218 1.5629472627759466"/>
         <geometry>
            <mesh filename="package://viz/models/titans_hand/urdf/converted_mesh/converted_ring_base.stl"/>
         </geometry>
         <material name="white"/>
      </visual>
   </link>
   <link name="palm2ring_base_fixed_jointbody">
      <inertial>
         <origin xyz="0.0 0.0 0.0" rpy="0.0 0.0 0.0"/>
         <mass value="0.001"/>
         <inertia ixx="1e-09" iyy="1e-09" izz="1e-09" ixy="0" ixz="0" iyz="0"/>
      </inertial>
   </link>
   <joint type="fixed" name="palm2ring_base_fixed">
      <parent link="palm"/>
      <child link="palm2ring_base_fixed_jointbody"/>
      <origin xyz="0.002691840889 -0.002 0.056250672" rpy="0.0 -0.34906585040000015 0.0"/>
   </joint>
   <joint type="fixed" name="palm2ring_base_fixed_offset">
      <parent link="palm2ring_base_fixed_jointbody"/>
      <child link="ring_base"/>
      <origin xyz="-0.0 -0.0 -0.0" rpy="0.0 0.0 0.0"/>
   </joint>
   <link name="ring_um_virt">
      <inertial>
         <origin xyz="0.0 0.0 0.0" rpy="0.0 0.0 0.0"/>
         <mass value="0.001"/>
         <inertia ixx="4e-10" iyy="4e-10" izz="3e-10" ixy="0" ixz="0" iyz="0"/>
      </inertial>
   </link>
   <link name="ring_abd_virt_jointbody">
      <inertial>
         <origin xyz="0.0 0.0 0.0" rpy="0.0 0.0 0.0"/>
         <mass value="0.001"/>
         <inertia ixx="1e-09" iyy="1e-09" izz="1e-09" ixy="0" ixz="0" iyz="0"/>
      </inertial>
   </link>
   <joint type="revolute" name="ring_abd_virt">
      <parent link="ring_base"/>
      <child link="ring_abd_virt_jointbody"/>
      <origin xyz="0.0 0.0 0.00527505" rpy="0.0 0.0 0.0"/>
      <axis xyz="0.0 1.0 0.0"/>
      <limit lower="-0.264" upper="0.264" effort="100" velocity="100"/>
   </joint>
   <joint type="fixed" name="ring_abd_virt_offset">
      <parent link="ring_abd_virt_jointbody"/>
      <child link="ring_um_virt"/>
      <origin xyz="-0.0 -0.0 -0.0" rpy="0.0 0.0 0.0"/>
   </joint>
   <link name="ring_um">
      <inertial>
         <origin xyz="1.7370519164770844e-05 0.0012715146657108968 -0.0031260415189963524" rpy="3.120877986607322 -1.1804296781579997 -1.5514785003273175"/>
         <mass value="0.0020507778801623494"/>
         <inertia ixx="5.3021061398745245e-08" iyy="4.456771195857276e-08" izz="4.1862251466191607e-08" ixy="0" ixz="0" iyz="0"/>
      </inertial>
      <visual name="ring_um">
         <origin xyz="1.7370519164770844e-05 0.0012715146657108968 -0.0031260415189963524" rpy="3.120877986607322 -1.1804296781579997 -1.5514785003273168"/>
         <geometry>
            <mesh filename="package://viz/models/titans_hand/urdf/converted_mesh/converted_ring_um.stl"/>
         </geometry>
         <material name="white"/>
      </visual>
   </link>
   <link name="ring_abd_jointbody">
      <inertial>
         <origin xyz="0.0 0.0 0.0" rpy="0.0 0.0 0.0"/>
         <mass value="0.001"/>
         <inertia ixx="1e-09" iyy="1e-09" izz="1e-09" ixy="0" ixz="0" iyz="0"/>
      </inertial>
   </link>
   <joint type="revolute" name="ring_abd">
      <parent link="ring_um_virt"/>
      <child link="ring_abd_jointbody"/>
      <origin xyz="0.0 0.0 0.01789991" rpy="0.0 0.0 0.0"/>
      <axis xyz="0.0 1.0 0.0"/>
      <limit lower="-0.264" upper="0.264" effort="100" velocity="100"/>
   </joint>
   <joint type="fixed" name="ring_abd_offset">
      <parent link="ring_abd_jointbody"/>
      <child link="ring_um"/>
      <origin xyz="-0.0 -0.0 -0.0" rpy="0.0 0.0 0.0"/>
   </joint>
   <link name="ring_pp_virt">
      <inertial>
         <origin xyz="0.0 0.0 0.0" rpy="0.0 0.0 0.0"/>
         <mass value="0.001"/>
         <inertia ixx="4e-10" iyy="4e-10" izz="3e-10" ixy="0" ixz="0" iyz="0"/>
      </inertial>
   </link>
   <link name="root2ring_pp_virt_jointbody">
      <inertial>
         <origin xyz="0.0 0.0 0.0" rpy="0.0 0.0 0.0"/>
         <mass value="0.001"/>
         <inertia ixx="1e-09" iyy="1e-09" izz="1e-09" ixy="0" ixz="0" iyz="0"/>
      </inertial>
   </link>
   <joint type="revolute" name="root2ring_pp_virt">
      <parent link="ring_um"/>
      <child link="root2ring_pp_virt_jointbody"/>
      <origin xyz="0.0 0.0033 -0.00625608" rpy="0.0 0.0 0.0"/>
      <axis xyz="1.0 0.0 0.0"/>
      <limit lower="-0.157" upper="0.829" effort="100" velocity="100"/>
   </joint>
   <joint type="fixed" name="root2ring_pp_virt_offset">
      <parent link="root2ring_pp_virt_jointbody"/>
      <child link="ring_pp_virt"/>
      <origin xyz="-0.0 -0.0 -0.0" rpy="0.0 0.0 0.0"/>
   </joint>
   <link name="ring_pp">
      <inertial>
         <origin xyz="0.00011637335936397564 -0.001818208065259735 0.010822209549121282" rpy="0.0018869935921097536 0.038976549934939486 1.5584299043450622"/>
         <mass value="0.007546046440107924"/>
         <inertia ixx="9.56353434554292e-07" iyy="9.274116917842254e-07" izz="1.7176054342320975e-07" ixy="0" ixz="0" iyz="0"/>
      </inertial>
      <visual name="ring_pp">
         <origin xyz="0.00011637335936397564 -0.001818208065259735 0.010822209549121282" rpy="0.0018869935921097536 0.038976549934939486 1.5584299043450622"/>
         <geometry>
            <mesh filename="package://viz/models/titans_hand/urdf/converted_mesh/converted_ring_pp.stl"/>
         </geometry>
         <material name="white"/>
      </visual>
   </link>
   <link name="root2ring_pp_jointbody">
      <inertial>
         <origin xyz="0.0 0.0 0.0" rpy="0.0 0.0 0.0"/>
         <mass value="0.001"/>
         <inertia ixx="1e-09" iyy="1e-09" izz="1e-09" ixy="0" ixz="0" iyz="0"/>
      </inertial>
   </link>
   <joint type="revolute" name="root2ring_pp">
      <parent link="ring_pp_virt"/>
      <child link="root2ring_pp_jointbody"/>
      <origin xyz="0.0 -0.00015683 0.01722519" rpy="0.0 0.0 0.0"/>
      <axis xyz="1.0 0.0 0.0"/>
      <limit lower="-0.157" upper="0.829" effort="100" velocity="100"/>
   </joint>
   <joint type="fixed" name="root2ring_pp_offset">
      <parent link="root2ring_pp_jointbody"/>
      <child link="ring_pp"/>
      <origin xyz="-0.0 -0.0 -0.0" rpy="0.0 0.0 0.0"/>
   </joint>
   <link name="ring_pp_sens">
      <inertial>
         <origin xyz="0.0 0.0 0.0" rpy="0.0 0.0 0.0"/>
         <mass value="0.0"/>
         <inertia ixx="0.0" iyy="0.0" izz="0.0" ixy="0" ixz="0" iyz="0"/>
      </inertial>
   </link>
   <link name="ring_pp2ring_pp_sens_fixed_jointbody">
      <inertial>
         <origin xyz="0.0 0.0 0.0" rpy="0.0 0.0 0.0"/>
         <mass value="0.001"/>
         <inertia ixx="1e-09" iyy="1e-09" izz="1e-09" ixy="0" ixz="0" iyz="0"/>
      </inertial>
   </link>
   <joint type="fixed" name="ring_pp2ring_pp_sens_fixed">
      <parent link="ring_pp"/>
      <child link="ring_pp2ring_pp_sens_fixed_jointbody"/>
      <origin xyz="0.0 0.0 0.0" rpy="0.0 0.0 0.0"/>
   </joint>
   <joint type="fixed" name="ring_pp2ring_pp_sens_fixed_offset">
      <parent link="ring_pp2ring_pp_sens_fixed_jointbody"/>
      <child link="ring_pp_sens"/>
      <origin xyz="-0.0 -0.0 -0.0" rpy="0.0 0.0 0.0"/>
   </joint>
   <link name="ring_mp_virt">
      <inertial>
         <origin xyz="0.0 0.0 0.0" rpy="0.0 0.0 0.0"/>
         <mass value="0.001"/>
         <inertia ixx="4e-10" iyy="4e-10" izz="3e-10" ixy="0" ixz="0" iyz="0"/>
      </inertial>
   </link>
   <link name="ring_pp2mp_virt_jointbody">
      <inertial>
         <origin xyz="0.0 0.0 0.0" rpy="0.0 0.0 0.0"/>
         <mass value="0.001"/>
         <inertia ixx="1e-09" iyy="1e-09" izz="1e-09" ixy="0" ixz="0" iyz="0"/>
      </inertial>
   </link>
   <joint type="revolute" name="ring_pp2mp_virt">
      <parent link="ring_pp"/>
      <child link="ring_pp2mp_virt_jointbody"/>
      <origin xyz="0.0 0.00057641 0.02611802" rpy="0.0 0.0 0.0"/>
      <axis xyz="1.0 0.0 0.0"/>
      <limit lower="-0.131" upper="0.96" effort="100" velocity="100"/>
   </joint>
   <joint type="fixed" name="ring_pp2mp_virt_offset">
      <parent link="ring_pp2mp_virt_jointbody"/>
      <child link="ring_mp_virt"/>
      <origin xyz="-0.0 -0.0 -0.0" rpy="0.0 0.0 0.0"/>
   </joint>
   <link name="ring_mp">
      <inertial>
         <origin xyz="0.00029668965848413434 -0.0011315360700857534 0.007590131503944136" rpy="0.0056787978904592196 0.009123149673579745 1.5738823026622906"/>
         <mass value="0.0036096163027472743"/>
         <inertia ixx="2.3670857595223327e-07" iyy="2.0588776340491657e-07" izz="6.81524873648359e-08" ixy="0" ixz="0" iyz="0"/>
      </inertial>
      <visual name="ring_mp">
         <origin xyz="0.00029668965848413434 -0.0011315360700857534 0.007590131503944136" rpy="0.0056787978904592196 0.009123149673579745 1.573882302662291"/>
         <geometry>
            <mesh filename="package://viz/models/titans_hand/urdf/converted_mesh/converted_ring_mp.stl"/>
         </geometry>
         <material name="white"/>
      </visual>
   </link>
   <link name="ring_pp2mp_jointbody">
      <inertial>
         <origin xyz="0.0 0.0 0.0" rpy="0.0 0.0 0.0"/>
         <mass value="0.001"/>
         <inertia ixx="1e-09" iyy="1e-09" izz="1e-09" ixy="0" ixz="0" iyz="0"/>
      </inertial>
   </link>
   <joint type="revolute" name="ring_pp2mp">
      <parent link="ring_mp_virt"/>
      <child link="ring_pp2mp_jointbody"/>
      <origin xyz="0.0 -0.00080968 0.01104305" rpy="0.0 0.0 0.0"/>
      <axis xyz="1.0 0.0 0.0"/>
      <limit lower="-0.131" upper="0.96" effort="100" velocity="100"/>
   </joint>
   <joint type="fixed" name="ring_pp2mp_offset">
      <parent link="ring_pp2mp_jointbody"/>
      <child link="ring_mp"/>
      <origin xyz="-0.0 -0.0 -0.0" rpy="0.0 0.0 0.0"/>
   </joint>
   <link name="ring_dp_virt">
      <inertial>
         <origin xyz="0.0 0.0 0.01" rpy="0.0 0.0 0.0"/>
         <mass value="0.001"/>
         <inertia ixx="4e-10" iyy="4e-10" izz="3e-10" ixy="0" ixz="0" iyz="0"/>
      </inertial>
   </link>
   <link name="ring_mp2dp_virt_jointbody">
      <inertial>
         <origin xyz="0.0 0.0 0.0" rpy="0.0 0.0 0.0"/>
         <mass value="0.001"/>
         <inertia ixx="1e-09" iyy="1e-09" izz="1e-09" ixy="0" ixz="0" iyz="0"/>
      </inertial>
   </link>
   <joint type="revolute" name="ring_mp2dp_virt">
      <parent link="ring_mp"/>
      <child link="ring_mp2dp_virt_jointbody"/>
      <origin xyz="0.0 -0.00027599 0.01697596" rpy="0.0 0.0 0.0"/>
      <axis xyz="1.0 0.0 0.0"/>
      <limit lower="-0.093" upper="0.682" effort="100" velocity="100"/>
   </joint>
   <joint type="fixed" name="ring_mp2dp_virt_offset">
      <parent link="ring_mp2dp_virt_jointbody"/>
      <child link="ring_dp_virt"/>
      <origin xyz="-0.0 -0.0 -0.0" rpy="0.0 0.0 0.0"/>
   </joint>
   <link name="ring_dp">
      <inertial>
         <origin xyz="0.0004080281600351707 -0.0001609196067209539 0.004366833298723782" rpy="0.005320230753060984 0.04639366291748903 1.5713315351794575"/>
         <mass value="0.0014065189005047724"/>
         <inertia ixx="7.15765063531471e-08" iyy="6.265685623199896e-08" izz="1.6891661140100088e-08" ixy="0" ixz="0" iyz="0"/>
      </inertial>
      <visual name="ring_dp">
         <origin xyz="0.0004080281600351707 -0.0001609196067209539 0.004366833298723782" rpy="0.005320230753060984 0.04639366291748925 1.571331535179458"/>
         <geometry>
            <mesh filename="package://viz/models/titans_hand/urdf/converted_mesh/converted_ring_dp.stl"/>
         </geometry>
         <material name="white"/>
      </visual>
   </link>
   <link name="ring_mp2dp_jointbody">
      <inertial>
         <origin xyz="0.0 0.0 0.0" rpy="0.0 0.0 0.0"/>
         <mass value="0.001"/>
         <inertia ixx="1e-09" iyy="1e-09" izz="1e-09" ixy="0" ixz="0" iyz="0"/>
      </inertial>
   </link>
   <joint type="revolute" name="ring_mp2dp">
      <parent link="ring_dp_virt"/>
      <child link="ring_mp2dp_jointbody"/>
      <origin xyz="0.0 -0.00083781 0.00827539" rpy="0.0 0.0 0.0"/>
      <axis xyz="1.0 0.0 0.0"/>
      <limit lower="-0.093" upper="0.682" effort="100" velocity="100"/>
   </joint>
   <joint type="fixed" name="ring_mp2dp_offset">
      <parent link="ring_mp2dp_jointbody"/>
      <child link="ring_dp"/>
      <origin xyz="-0.0 -0.0 -0.0" rpy="0.0 0.0 0.0"/>
   </joint>
   <link name="ring_fingertip">
      <inertial>
         <origin xyz="0.0 0.0 0.01309" rpy="0.0 0.0 0.0"/>
         <mass value="0.0"/>
         <inertia ixx="0.0" iyy="0.0" izz="0.0" ixy="0" ixz="0" iyz="0"/>
      </inertial>
   </link>
   <link name="ring_dp2ring_fingertip_fixed_jointbody">
      <inertial>
         <origin xyz="0.0 0.0 0.0" rpy="0.0 0.0 0.0"/>
         <mass value="0.001"/>
         <inertia ixx="1e-09" iyy="1e-09" izz="1e-09" ixy="0" ixz="0" iyz="0"/>
      </inertial>
   </link>
   <joint type="fixed" name="ring_dp2ring_fingertip_fixed">
      <parent link="ring_dp"/>
      <child link="ring_dp2ring_fingertip_fixed_jointbody"/>
      <origin xyz="0.0 0.0 0.01309" rpy="0.0 0.0 0.0"/>
   </joint>
   <joint type="fixed" name="ring_dp2ring_fingertip_fixed_offset">
      <parent link="ring_dp2ring_fingertip_fixed_jointbody"/>
      <child link="ring_fingertip"/>
      <origin xyz="-0.0 -0.0 -0.0" rpy="0.0 0.0 0.0"/>
   </joint>
   <link name="pinky_base">
      <inertial>
         <origin xyz="-1.3760015381432599e-06 0.0001725668069039066 0.004475784071478828" rpy="-0.001820563394911212 0.2840263082023218 1.5629472627759466"/>
         <mass value="0.00362069274308756"/>
         <inertia ixx="1.660759019712417e-07" iyy="1.58396401779484e-07" izz="8.57537012752121e-08" ixy="0" ixz="0" iyz="0"/>
      </inertial>
      <visual name="pinky_base">
         <origin xyz="-1.3760015381432599e-06 0.0001725668069039066 0.004475784071478828" rpy="-0.001820563394911212 0.2840263082023218 1.5629472627759466"/>
         <geometry>
            <mesh filename="package://viz/models/titans_hand/urdf/converted_mesh/converted_pinky_base.stl"/>
         </geometry>
         <material name="white"/>
      </visual>
   </link>
   <link name="palm2pinky_base_fixed_jointbody">
      <inertial>
         <origin xyz="0.0 0.0 0.0" rpy="0.0 0.0 0.0"/>
         <mass value="0.001"/>
         <inertia ixx="1e-09" iyy="1e-09" izz="1e-09" ixy="0" ixz="0" iyz="0"/>
      </inertial>
   </link>
   <joint type="fixed" name="palm2pinky_base_fixed">
      <parent link="palm"/>
      <child link="palm2pinky_base_fixed_jointbody"/>
      <origin xyz="-0.01537994548 -0.002 0.048767481" rpy="0.0 -0.4363323130000001 0.0"/>
   </joint>
   <joint type="fixed" name="palm2pinky_base_fixed_offset">
      <parent link="palm2pinky_base_fixed_jointbody"/>
      <child link="pinky_base"/>
      <origin xyz="-0.0 -0.0 -0.0" rpy="0.0 0.0 0.0"/>
   </joint>
   <link name="pinky_um_virt">
      <inertial>
         <origin xyz="0.0 0.0 0.0" rpy="0.0 0.0 0.0"/>
         <mass value="0.001"/>
         <inertia ixx="4e-10" iyy="4e-10" izz="3e-10" ixy="0" ixz="0" iyz="0"/>
      </inertial>
   </link>
   <link name="pinky_abd_virt_jointbody">
      <inertial>
         <origin xyz="0.0 0.0 0.0" rpy="0.0 0.0 0.0"/>
         <mass value="0.001"/>
         <inertia ixx="1e-09" iyy="1e-09" izz="1e-09" ixy="0" ixz="0" iyz="0"/>
      </inertial>
   </link>
   <joint type="revolute" name="pinky_abd_virt">
      <parent link="pinky_base"/>
      <child link="pinky_abd_virt_jointbody"/>
      <origin xyz="0.0 0.0 0.00527505" rpy="0.0 0.0 0.0"/>
      <axis xyz="0.0 1.0 0.0"/>
      <limit lower="-0.264" upper="0.264" effort="100" velocity="100"/>
   </joint>
   <joint type="fixed" name="pinky_abd_virt_offset">
      <parent link="pinky_abd_virt_jointbody"/>
      <child link="pinky_um_virt"/>
      <origin xyz="-0.0 -0.0 -0.0" rpy="0.0 0.0 0.0"/>
   </joint>
   <link name="pinky_um">
      <inertial>
         <origin xyz="1.7370519164770844e-05 0.0012715146657108968 -0.0031260415189963524" rpy="3.120877986607322 -1.1804296781579997 -1.5514785003273175"/>
         <mass value="0.0020507778801623494"/>
         <inertia ixx="5.3021061398745245e-08" iyy="4.456771195857276e-08" izz="4.1862251466191607e-08" ixy="0" ixz="0" iyz="0"/>
      </inertial>
      <visual name="pinky_um">
         <origin xyz="1.7370519164770844e-05 0.0012715146657108968 -0.0031260415189963524" rpy="3.120877986607322 -1.1804296781579997 -1.5514785003273168"/>
         <geometry>
            <mesh filename="package://viz/models/titans_hand/urdf/converted_mesh/converted_pinky_um.stl"/>
         </geometry>
         <material name="white"/>
      </visual>
   </link>
   <link name="pinky_abd_jointbody">
      <inertial>
         <origin xyz="0.0 0.0 0.0" rpy="0.0 0.0 0.0"/>
         <mass value="0.001"/>
         <inertia ixx="1e-09" iyy="1e-09" izz="1e-09" ixy="0" ixz="0" iyz="0"/>
      </inertial>
   </link>
   <joint type="revolute" name="pinky_abd">
      <parent link="pinky_um_virt"/>
      <child link="pinky_abd_jointbody"/>
      <origin xyz="0.0 0.0 0.01789991" rpy="0.0 0.0 0.0"/>
      <axis xyz="0.0 1.0 0.0"/>
      <limit lower="-0.264" upper="0.264" effort="100" velocity="100"/>
   </joint>
   <joint type="fixed" name="pinky_abd_offset">
      <parent link="pinky_abd_jointbody"/>
      <child link="pinky_um"/>
      <origin xyz="-0.0 -0.0 -0.0" rpy="0.0 0.0 0.0"/>
   </joint>
   <link name="pinky_pp_virt">
      <inertial>
         <origin xyz="0.0 0.0 0.0" rpy="0.0 0.0 0.0"/>
         <mass value="0.001"/>
         <inertia ixx="4e-10" iyy="4e-10" izz="3e-10" ixy="0" ixz="0" iyz="0"/>
      </inertial>
   </link>
   <link name="root2pinky_pp_virt_jointbody">
      <inertial>
         <origin xyz="0.0 0.0 0.0" rpy="0.0 0.0 0.0"/>
         <mass value="0.001"/>
         <inertia ixx="1e-09" iyy="1e-09" izz="1e-09" ixy="0" ixz="0" iyz="0"/>
      </inertial>
   </link>
   <joint type="revolute" name="root2pinky_pp_virt">
      <parent link="pinky_um"/>
      <child link="root2pinky_pp_virt_jointbody"/>
      <origin xyz="0.0 0.0033 -0.00625608" rpy="0.0 0.0 0.0"/>
      <axis xyz="1.0 0.0 0.0"/>
      <limit lower="-0.157" upper="0.829" effort="100" velocity="100"/>
   </joint>
   <joint type="fixed" name="root2pinky_pp_virt_offset">
      <parent link="root2pinky_pp_virt_jointbody"/>
      <child link="pinky_pp_virt"/>
      <origin xyz="-0.0 -0.0 -0.0" rpy="0.0 0.0 0.0"/>
   </joint>
   <link name="pinky_pp">
      <inertial>
         <origin xyz="0.00011637335936397564 -0.001818208065259735 0.010822209549121282" rpy="0.0018869935921097536 0.038976549934939486 1.5584299043450622"/>
         <mass value="0.007546046440107924"/>
         <inertia ixx="9.56353434554292e-07" iyy="9.274116917842254e-07" izz="1.7176054342320975e-07" ixy="0" ixz="0" iyz="0"/>
      </inertial>
      <visual name="pinky_pp">
         <origin xyz="0.00011637335936397564 -0.001818208065259735 0.010822209549121282" rpy="0.0018869935921097536 0.038976549934939486 1.5584299043450622"/>
         <geometry>
            <mesh filename="package://viz/models/titans_hand/urdf/converted_mesh/converted_pinky_pp.stl"/>
         </geometry>
         <material name="white"/>
      </visual>
   </link>
   <link name="root2pinky_pp_jointbody">
      <inertial>
         <origin xyz="0.0 0.0 0.0" rpy="0.0 0.0 0.0"/>
         <mass value="0.001"/>
         <inertia ixx="1e-09" iyy="1e-09" izz="1e-09" ixy="0" ixz="0" iyz="0"/>
      </inertial>
   </link>
   <joint type="revolute" name="root2pinky_pp">
      <parent link="pinky_pp_virt"/>
      <child link="root2pinky_pp_jointbody"/>
      <origin xyz="0.0 -0.00015683 0.01722519" rpy="0.0 0.0 0.0"/>
      <axis xyz="1.0 0.0 0.0"/>
      <limit lower="-0.157" upper="0.829" effort="100" velocity="100"/>
   </joint>
   <joint type="fixed" name="root2pinky_pp_offset">
      <parent link="root2pinky_pp_jointbody"/>
      <child link="pinky_pp"/>
      <origin xyz="-0.0 -0.0 -0.0" rpy="0.0 0.0 0.0"/>
   </joint>
   <link name="pinky_pp_sens">
      <inertial>
         <origin xyz="0.0 0.0 0.0" rpy="0.0 0.0 0.0"/>
         <mass value="0.0"/>
         <inertia ixx="0.0" iyy="0.0" izz="0.0" ixy="0" ixz="0" iyz="0"/>
      </inertial>
   </link>
   <link name="pinky_pp2pinky_pp_sens_fixed_jointbody">
      <inertial>
         <origin xyz="0.0 0.0 0.0" rpy="0.0 0.0 0.0"/>
         <mass value="0.001"/>
         <inertia ixx="1e-09" iyy="1e-09" izz="1e-09" ixy="0" ixz="0" iyz="0"/>
      </inertial>
   </link>
   <joint type="fixed" name="pinky_pp2pinky_pp_sens_fixed">
      <parent link="pinky_pp"/>
      <child link="pinky_pp2pinky_pp_sens_fixed_jointbody"/>
      <origin xyz="0.0 0.0 0.0" rpy="0.0 0.0 0.0"/>
   </joint>
   <joint type="fixed" name="pinky_pp2pinky_pp_sens_fixed_offset">
      <parent link="pinky_pp2pinky_pp_sens_fixed_jointbody"/>
      <child link="pinky_pp_sens"/>
      <origin xyz="-0.0 -0.0 -0.0" rpy="0.0 0.0 0.0"/>
   </joint>
   <link name="pinky_mp_virt">
      <inertial>
         <origin xyz="0.0 0.0 0.0" rpy="0.0 0.0 0.0"/>
         <mass value="0.001"/>
         <inertia ixx="4e-10" iyy="4e-10" izz="3e-10" ixy="0" ixz="0" iyz="0"/>
      </inertial>
   </link>
   <link name="pinky_pp2mp_virt_jointbody">
      <inertial>
         <origin xyz="0.0 0.0 0.0" rpy="0.0 0.0 0.0"/>
         <mass value="0.001"/>
         <inertia ixx="1e-09" iyy="1e-09" izz="1e-09" ixy="0" ixz="0" iyz="0"/>
      </inertial>
   </link>
   <joint type="revolute" name="pinky_pp2mp_virt">
      <parent link="pinky_pp"/>
      <child link="pinky_pp2mp_virt_jointbody"/>
      <origin xyz="0.0 0.00057641 0.02611802" rpy="0.0 0.0 0.0"/>
      <axis xyz="1.0 0.0 0.0"/>
      <limit lower="-0.131" upper="0.96" effort="100" velocity="100"/>
   </joint>
   <joint type="fixed" name="pinky_pp2mp_virt_offset">
      <parent link="pinky_pp2mp_virt_jointbody"/>
      <child link="pinky_mp_virt"/>
      <origin xyz="-0.0 -0.0 -0.0" rpy="0.0 0.0 0.0"/>
   </joint>
   <link name="pinky_mp">
      <inertial>
         <origin xyz="0.00029668965848413434 -0.0011315360700857534 0.007590131503944136" rpy="0.0056787978904592196 0.009123149673579745 1.5738823026622906"/>
         <mass value="0.0036096163027472743"/>
         <inertia ixx="2.3670857595223327e-07" iyy="2.0588776340491657e-07" izz="6.81524873648359e-08" ixy="0" ixz="0" iyz="0"/>
      </inertial>
      <visual name="pinky_mp">
         <origin xyz="0.00029668965848413434 -0.0011315360700857534 0.007590131503944136" rpy="0.0056787978904592196 0.009123149673579745 1.573882302662291"/>
         <geometry>
            <mesh filename="package://viz/models/titans_hand/urdf/converted_mesh/converted_pinky_mp.stl"/>
         </geometry>
         <material name="white"/>
      </visual>
   </link>
   <link name="pinky_pp2mp_jointbody">
      <inertial>
         <origin xyz="0.0 0.0 0.0" rpy="0.0 0.0 0.0"/>
         <mass value="0.001"/>
         <inertia ixx="1e-09" iyy="1e-09" izz="1e-09" ixy="0" ixz="0" iyz="0"/>
      </inertial>
   </link>
   <joint type="revolute" name="pinky_pp2mp">
      <parent link="pinky_mp_virt"/>
      <child link="pinky_pp2mp_jointbody"/>
      <origin xyz="0.0 -0.00080968 0.01104305" rpy="0.0 0.0 0.0"/>
      <axis xyz="1.0 0.0 0.0"/>
      <limit lower="-0.131" upper="0.96" effort="100" velocity="100"/>
   </joint>
   <joint type="fixed" name="pinky_pp2mp_offset">
      <parent link="pinky_pp2mp_jointbody"/>
      <child link="pinky_mp"/>
      <origin xyz="-0.0 -0.0 -0.0" rpy="0.0 0.0 0.0"/>
   </joint>
   <link name="pinky_dp_virt">
      <inertial>
         <origin xyz="0.0 0.0 -0.1" rpy="0.0 0.0 0.0"/>
         <mass value="0.001"/>
         <inertia ixx="4e-10" iyy="4e-10" izz="3e-10" ixy="0" ixz="0" iyz="0"/>
      </inertial>
   </link>
   <link name="pinky_mp2dp_virt_jointbody">
      <inertial>
         <origin xyz="0.0 0.0 0.0" rpy="0.0 0.0 0.0"/>
         <mass value="0.001"/>
         <inertia ixx="1e-09" iyy="1e-09" izz="1e-09" ixy="0" ixz="0" iyz="0"/>
      </inertial>
   </link>
   <joint type="revolute" name="pinky_mp2dp_virt">
      <parent link="pinky_mp"/>
      <child link="pinky_mp2dp_virt_jointbody"/>
      <origin xyz="0.0 -0.00027599 0.01697596" rpy="0.0 0.0 0.0"/>
      <axis xyz="1.0 0.0 0.0"/>
      <limit lower="-0.093" upper="0.682" effort="100" velocity="100"/>
   </joint>
   <joint type="fixed" name="pinky_mp2dp_virt_offset">
      <parent link="pinky_mp2dp_virt_jointbody"/>
      <child link="pinky_dp_virt"/>
      <origin xyz="-0.0 -0.0 -0.0" rpy="0.0 0.0 0.0"/>
   </joint>
   <link name="pinky_dp">
      <inertial>
         <origin xyz="0.0004080281600351707 -0.0001609196067209539 0.004366833298723782" rpy="0.005320230753060984 0.04639366291748903 1.5713315351794575"/>
         <mass value="0.0014065189005047724"/>
         <inertia ixx="7.15765063531471e-08" iyy="6.265685623199896e-08" izz="1.6891661140100088e-08" ixy="0" ixz="0" iyz="0"/>
      </inertial>
      <visual name="pinky_dp">
         <origin xyz="0.0004080281600351707 -0.0001609196067209539 0.004366833298723782" rpy="0.005320230753060984 0.04639366291748925 1.571331535179458"/>
         <geometry>
            <mesh filename="package://viz/models/titans_hand/urdf/converted_mesh/converted_pinky_dp.stl"/>
         </geometry>
         <material name="white"/>
      </visual>
   </link>
   <link name="pinky_mp2dp_jointbody">
      <inertial>
         <origin xyz="0.0 0.0 0.0" rpy="0.0 0.0 0.0"/>
         <mass value="0.001"/>
         <inertia ixx="1e-09" iyy="1e-09" izz="1e-09" ixy="0" ixz="0" iyz="0"/>
      </inertial>
   </link>
   <joint type="revolute" name="pinky_mp2dp">
      <parent link="pinky_dp_virt"/>
      <child link="pinky_mp2dp_jointbody"/>
      <origin xyz="0.0 -0.00083781 0.00827539" rpy="0.0 0.0 0.0"/>
      <axis xyz="1.0 0.0 0.0"/>
      <limit lower="-0.093" upper="0.682" effort="100" velocity="100"/>
   </joint>
   <joint type="fixed" name="pinky_mp2dp_offset">
      <parent link="pinky_mp2dp_jointbody"/>
      <child link="pinky_dp"/>
      <origin xyz="-0.0 -0.0 -0.0" rpy="0.0 0.0 0.0"/>
   </joint>
   <link name="pinky_fingertip">
      <inertial>
         <origin xyz="0.0 0.0 0.01309" rpy="0.0 0.0 0.0"/>
         <mass value="0.0"/>
         <inertia ixx="0.0" iyy="0.0" izz="0.0" ixy="0" ixz="0" iyz="0"/>
      </inertial>
   </link>
   <link name="pinky_dp2pinky_fingertip_fixed_jointbody">
      <inertial>
         <origin xyz="0.0 0.0 0.0" rpy="0.0 0.0 0.0"/>
         <mass value="0.001"/>
         <inertia ixx="1e-09" iyy="1e-09" izz="1e-09" ixy="0" ixz="0" iyz="0"/>
      </inertial>
   </link>
   <joint type="fixed" name="pinky_dp2pinky_fingertip_fixed">
      <parent link="pinky_dp"/>
      <child link="pinky_dp2pinky_fingertip_fixed_jointbody"/>
      <origin xyz="0.0 0.0 0.01309" rpy="0.0 0.0 0.0"/>
   </joint>
   <joint type="fixed" name="pinky_dp2pinky_fingertip_fixed_offset">
      <parent link="pinky_dp2pinky_fingertip_fixed_jointbody"/>
      <child link="pinky_fingertip"/>
      <origin xyz="-0.0 -0.0 -0.0" rpy="0.0 0.0 0.0"/>
   </joint>
   <material name="white">
      <color rgba="1 1 1 1"/>
   </material>
</robot>
